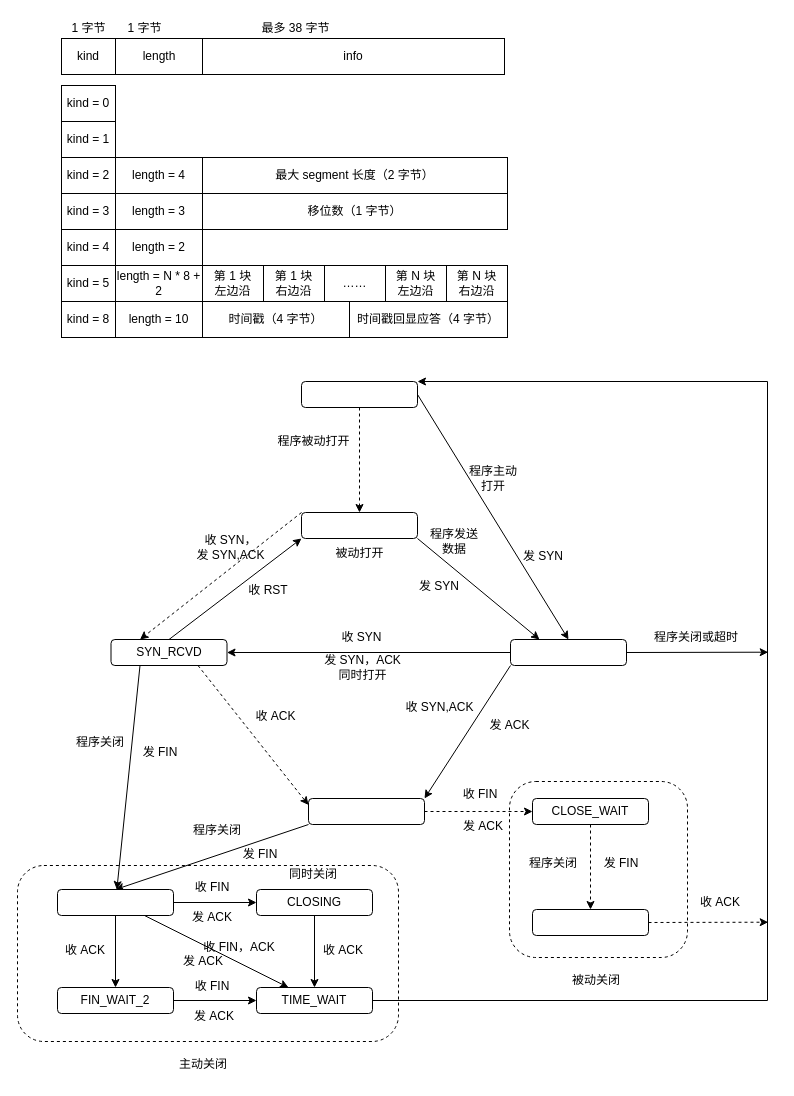
Some shapes in this 794 by 1096 pixel diagram are drawn without their labels. The centre of each missing label's shape, as x and y in pixels:
"CLOSED" belongs at pixel 359 394.
"ESTABLISHED" belongs at pixel 366 811.
"FIN_WAIT_1" belongs at pixel 115 902.
"LAST_ACK" belongs at pixel 590 922.
"LISTEN" belongs at pixel 359 525.
"SYN_SENT" belongs at pixel 568 652.
